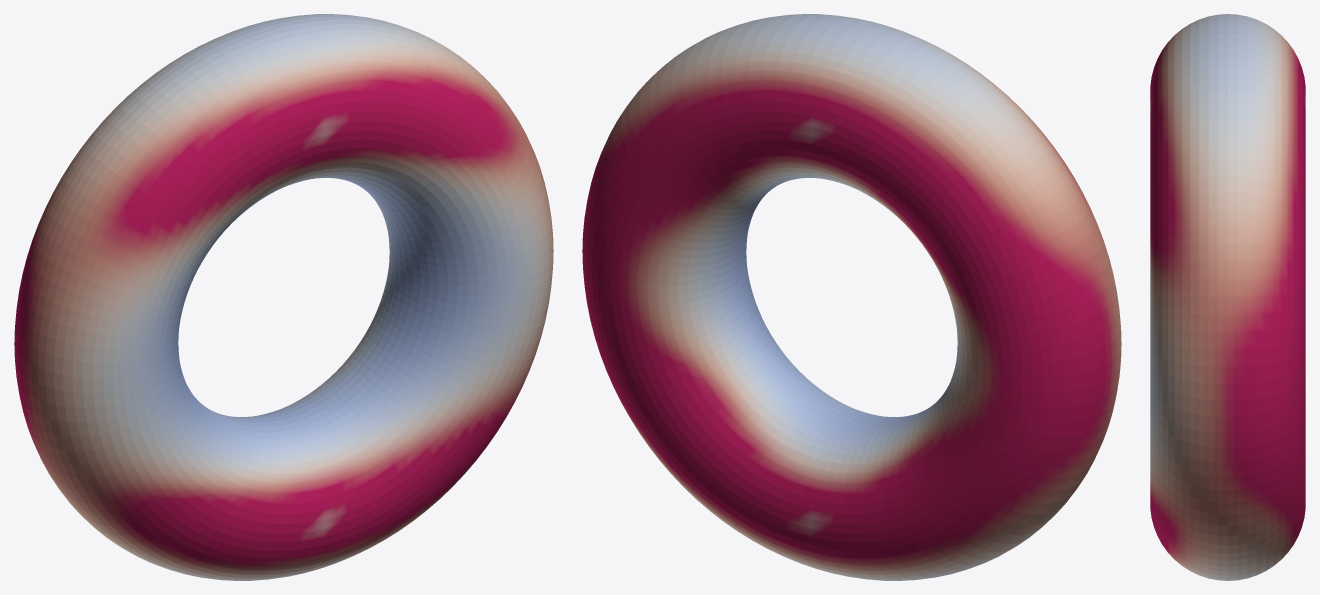
3 views of the same model, side by side, from view 1: azimuth 30°, elevation 25°; view 2: azimuth 150°, elevation 25°; view 3: azimuth 270°, elevation 25° (orthographic). The views are drawn at different scales.
Parts seen in each view (by area): view 1: world; view 2: world; view 3: world.
Boxes of the visible parts, <box> form: world: <box>14,14,553,580</box>; world: <box>582,14,1121,580</box>; world: <box>1150,14,1305,580</box>.
Bounding box in the file's own units: 25.73 × 25.73 × 7.05.
